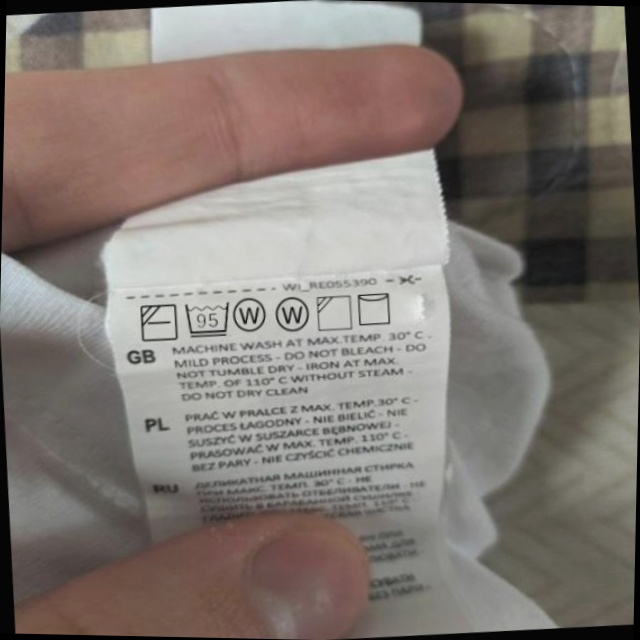95C: (182, 297, 234, 340)
dry_flat_in_shade: (137, 299, 180, 345)
line_dry: (354, 287, 396, 329)
shade_dry: (314, 292, 355, 334)
wet_clean: (273, 294, 312, 336), (232, 292, 270, 335)
